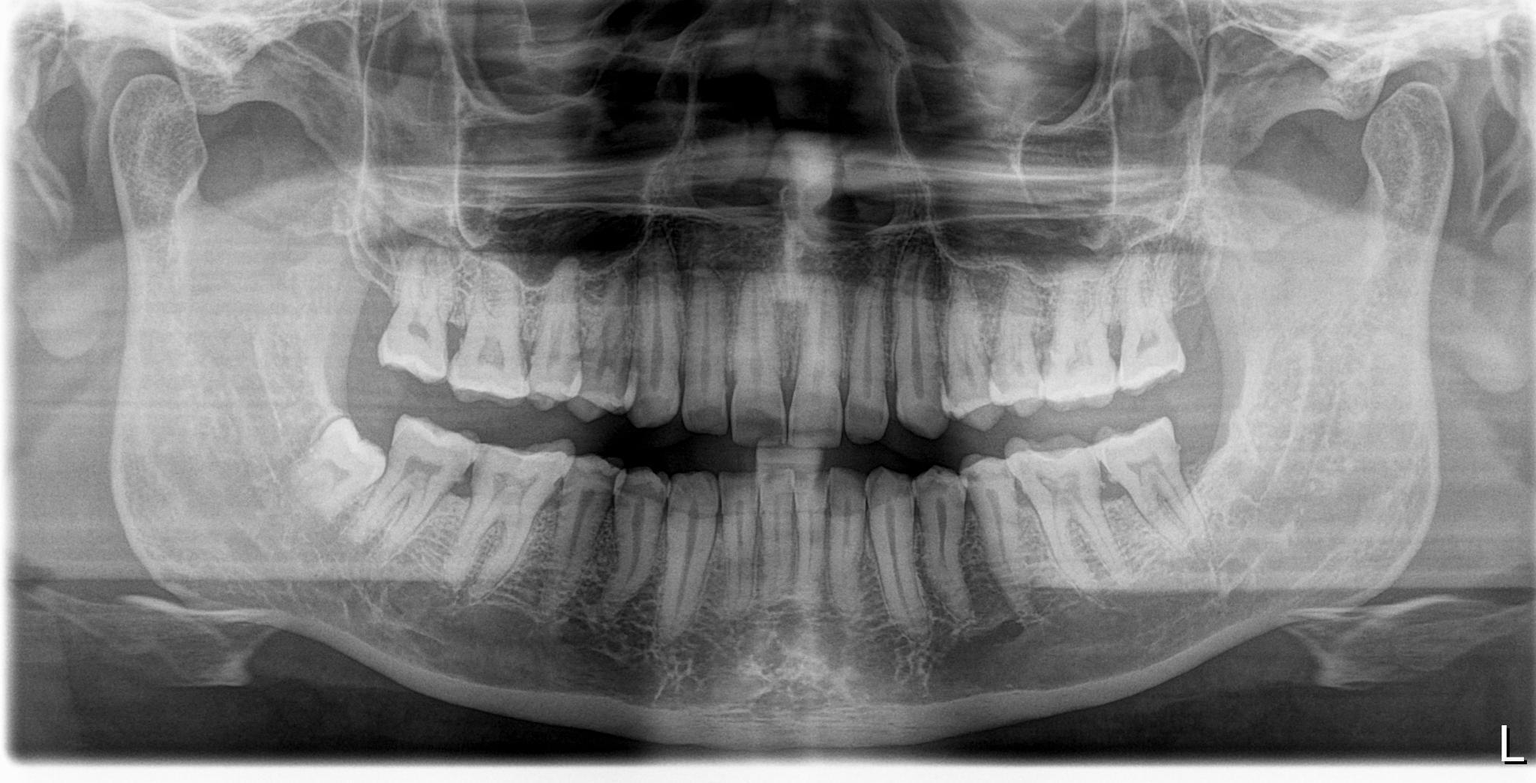Impacted Third Molar: (287, 424, 388, 520), (1108, 278, 1180, 390), (1106, 435, 1190, 528)
